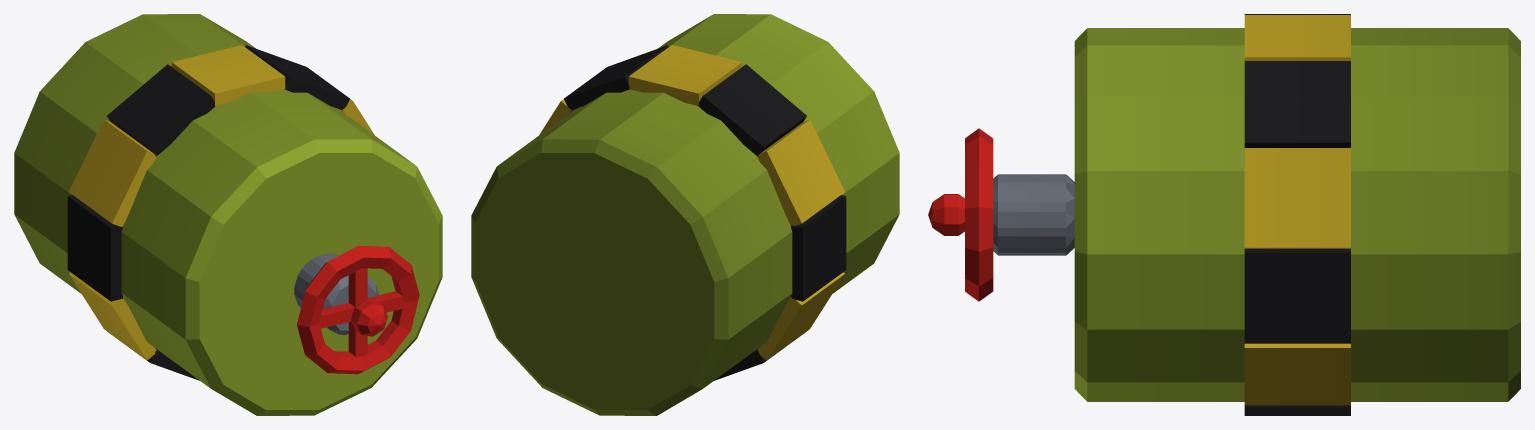
File: gas.glb
3 renders of one model, left to right at view 1: azimuth 30°, elevation 25°; view 2: azimuth 150°, elevation 25°; view 3: azimuth 270°, elevation 25°, orthographic. The views are drawn at different scales.
Visible parts, largest first — view 1: gas; view 2: gas; view 3: gas.
Part boxes in pixels (x1,y1,x2,y2): gas: [14, 14, 442, 415]; gas: [471, 14, 899, 415]; gas: [928, 14, 1520, 415].
Bounding box in the file's own units: 0.1858 × 0.1858 × 0.279.
